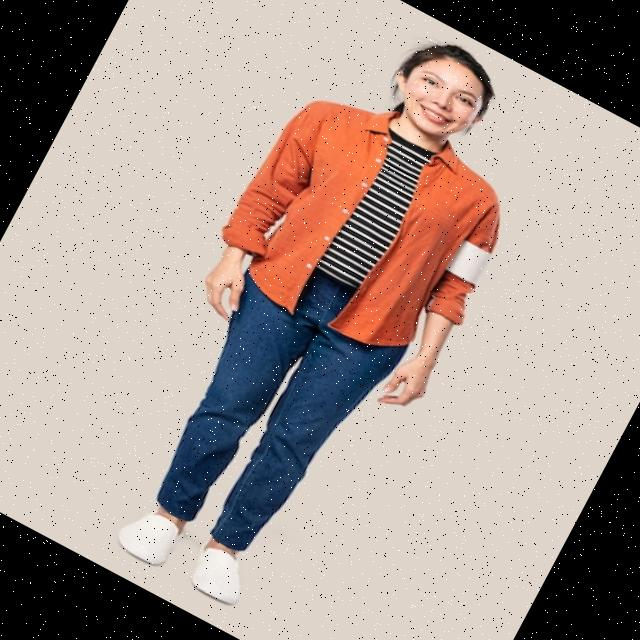Person: (68, 0, 574, 640)
